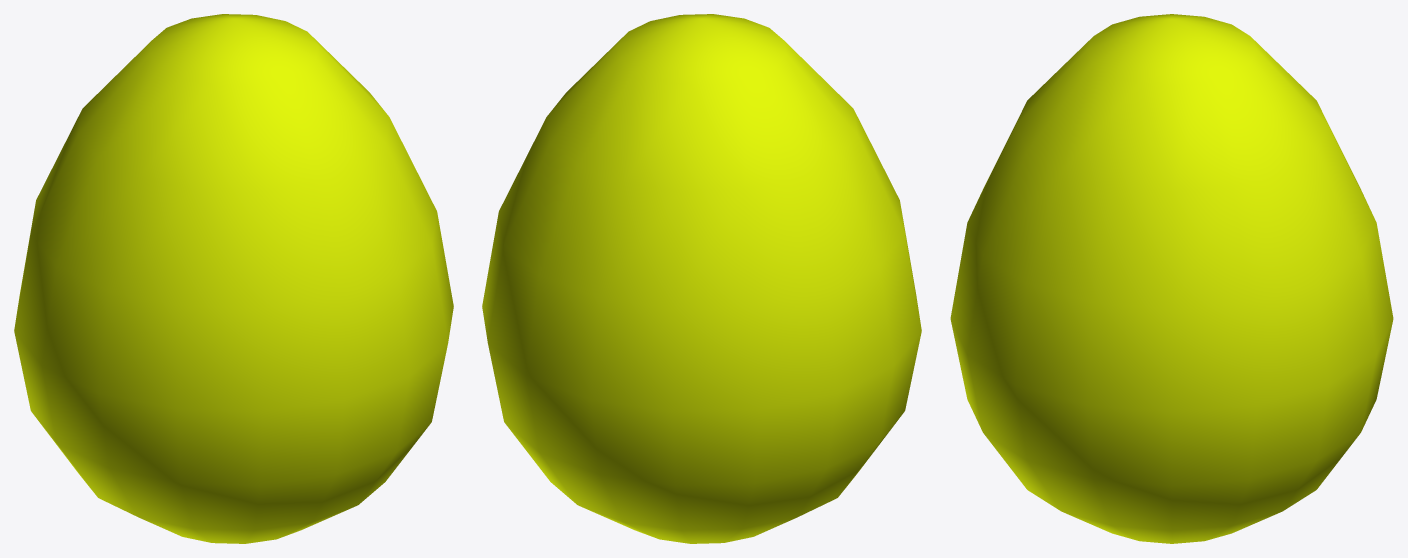
The model's file is eggYellow.glb.
3 renders of one model, left to right at view 1: azimuth 30°, elevation 25°; view 2: azimuth 150°, elevation 25°; view 3: azimuth 270°, elevation 25°, orthographic.
Visible parts, largest first — view 1: Sphere011; view 2: Sphere011; view 3: Sphere011.
Part boxes in pixels (bbox=[...]): Sphere011: bbox=[14, 14, 453, 543]; Sphere011: bbox=[482, 14, 921, 543]; Sphere011: bbox=[950, 14, 1393, 543].
Bounding box in the file's own units: 0.1403 × 0.1761 × 0.1403.
